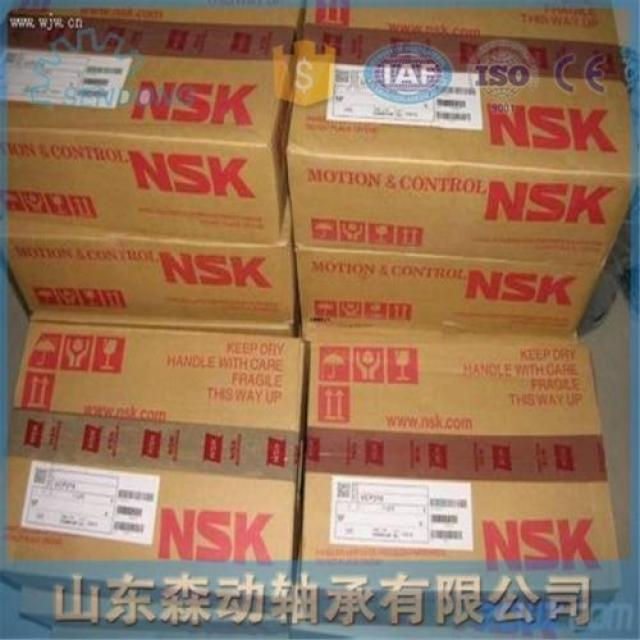box: (296, 324, 623, 630), (286, 1, 631, 268), (0, 313, 302, 603), (1, 3, 306, 244), (3, 195, 296, 326), (296, 250, 601, 338), (12, 588, 292, 628), (288, 602, 576, 637), (51, 626, 289, 637)
